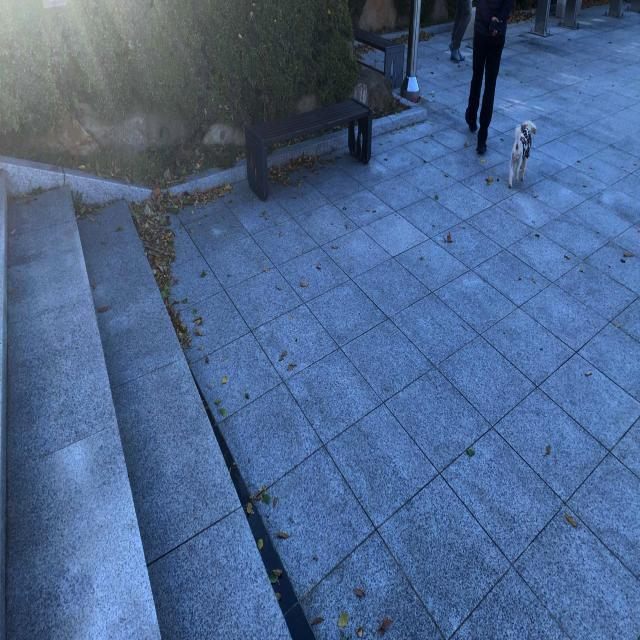Unleashed_Dog: (466, 17, 537, 189)
